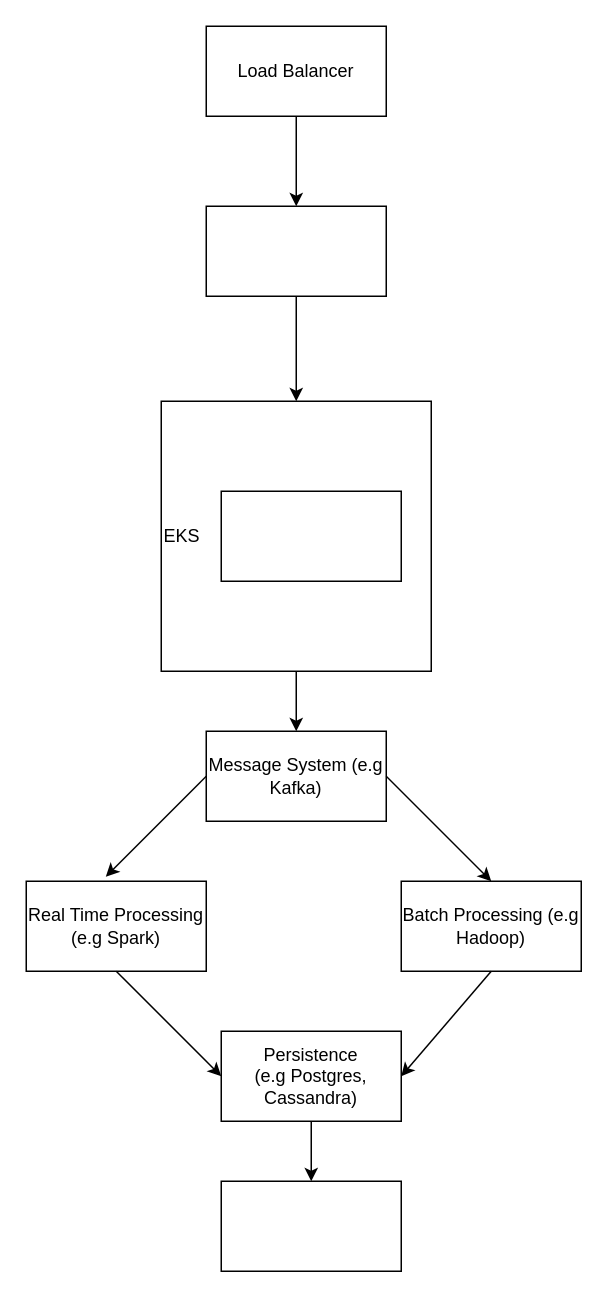
This 608x1298 diagram has some shape labels left out. Each missing label, with the centre of its shape:
API Gateway: (295,250)
Model Serving (Tensor Flow): (310,1225)
Service (image processor): (310,535)
